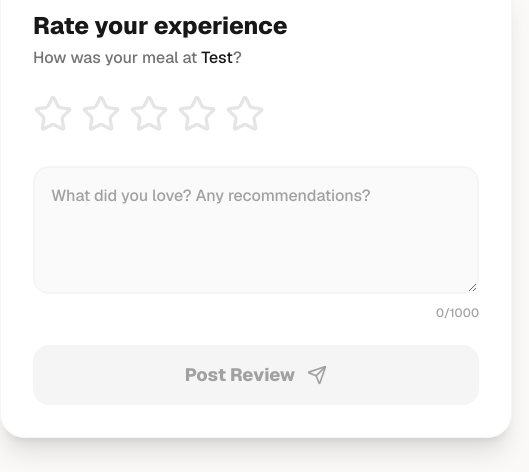
ReviewForm › enables submit button after selecting a star rating
Click the 1st button. click: (53, 114)
box: x1=33 y1=94 x2=73 y2=134
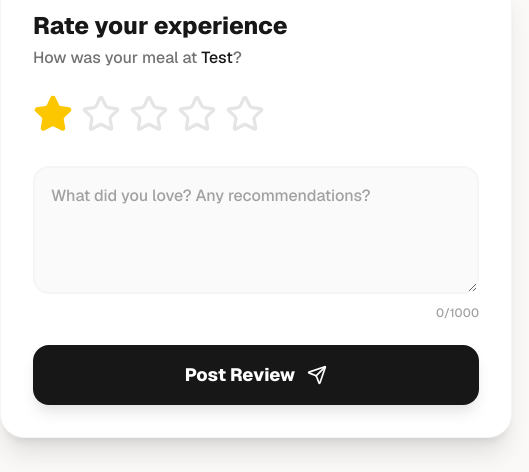
Now the button "Post Review" is enabled, box x1=33 y1=345 x2=479 y2=405
